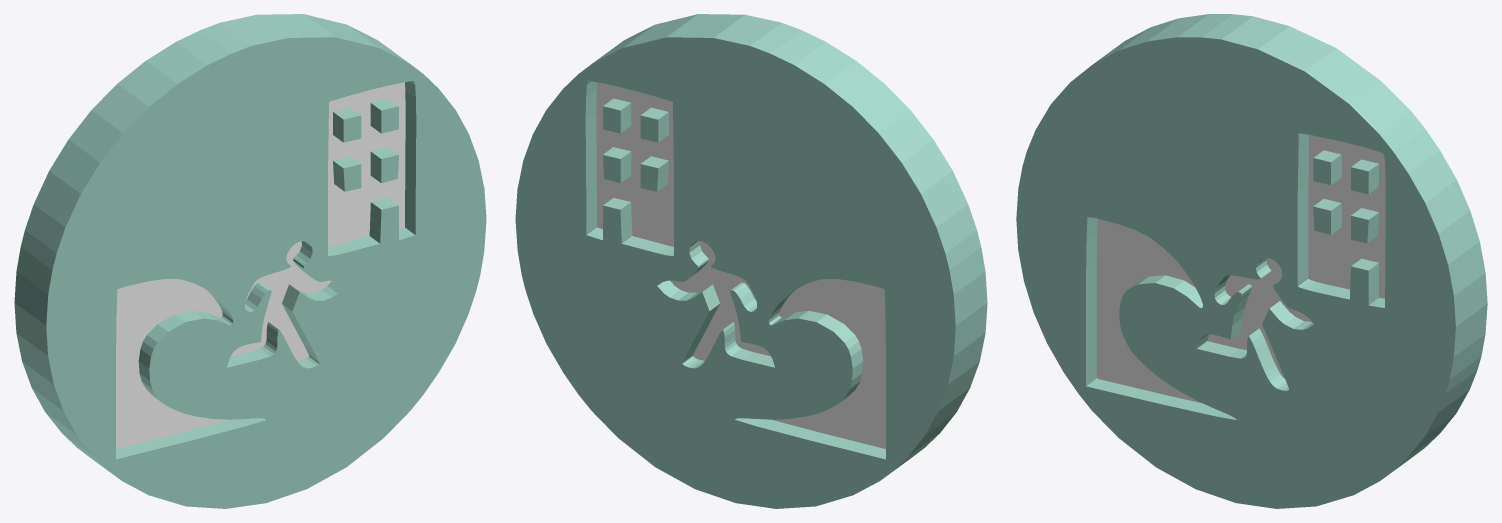
File: hinan-bldg-marker-org.fbx
3 views of the same model, side by side, from view 1: azimuth 30°, elevation 25°; view 2: azimuth 150°, elevation 25°; view 3: azimuth 330°, elevation 25° (orthographic).
Parts seen in each view (by area): view 1: obj_0.011; view 2: obj_0.011; view 3: obj_0.011.
Part boxes in pixels (x1=…): obj_0.011: x1=14, y1=14, x2=486, y2=508; obj_0.011: x1=515, y1=14, x2=987, y2=508; obj_0.011: x1=1016, y1=14, x2=1487, y2=508.
Size of the model in its own units: 4000 by 4000 by 500.
